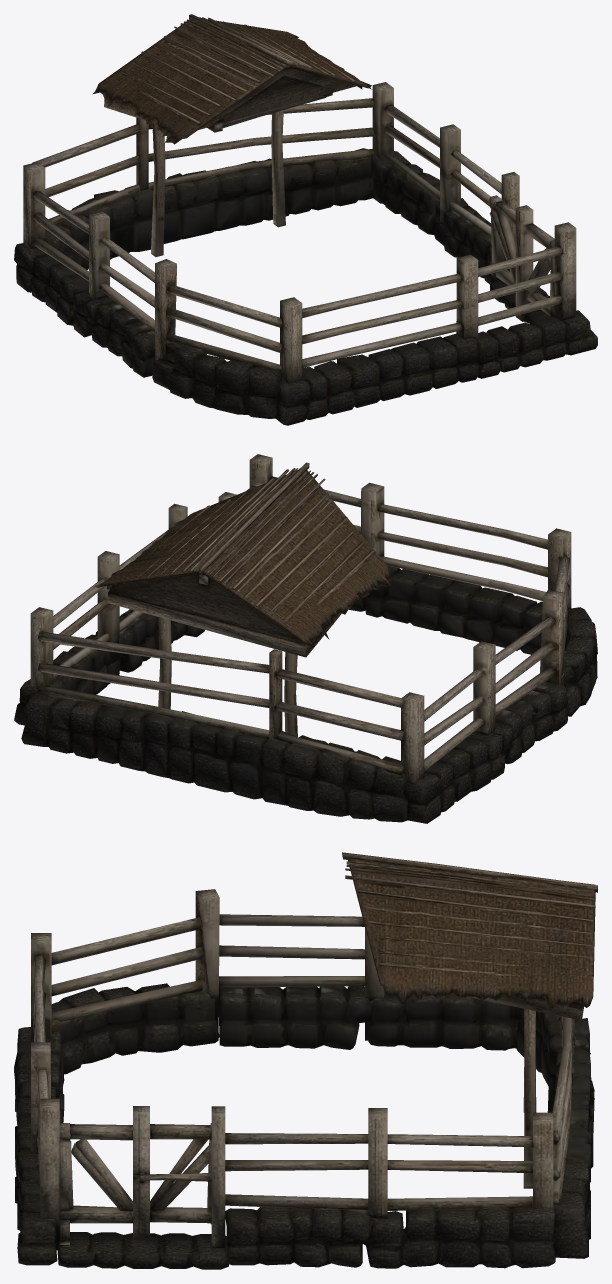
The model's file is animal-paddock.glb.
3 renders of one model, top to bottom at view 1: azimuth 30°, elevation 25°; view 2: azimuth 150°, elevation 25°; view 3: azimuth 270°, elevation 25°, orthographic. The views are drawn at different scales.
Parts seen in each view (by area): view 1: tripo_node_5d84743d-d6ce-49b9-a70c-da05cd6d3c1b; view 2: tripo_node_5d84743d-d6ce-49b9-a70c-da05cd6d3c1b; view 3: tripo_node_5d84743d-d6ce-49b9-a70c-da05cd6d3c1b.
Part boxes in pixels (x1,y1,x2,y2): tripo_node_5d84743d-d6ce-49b9-a70c-da05cd6d3c1b: (14,14,597,425); tripo_node_5d84743d-d6ce-49b9-a70c-da05cd6d3c1b: (14,454,597,823); tripo_node_5d84743d-d6ce-49b9-a70c-da05cd6d3c1b: (14,852,597,1269).
Bounding box in the file's own units: 0.9902 × 0.5684 × 0.998.
Materials: 1 (1 with a texture image).
